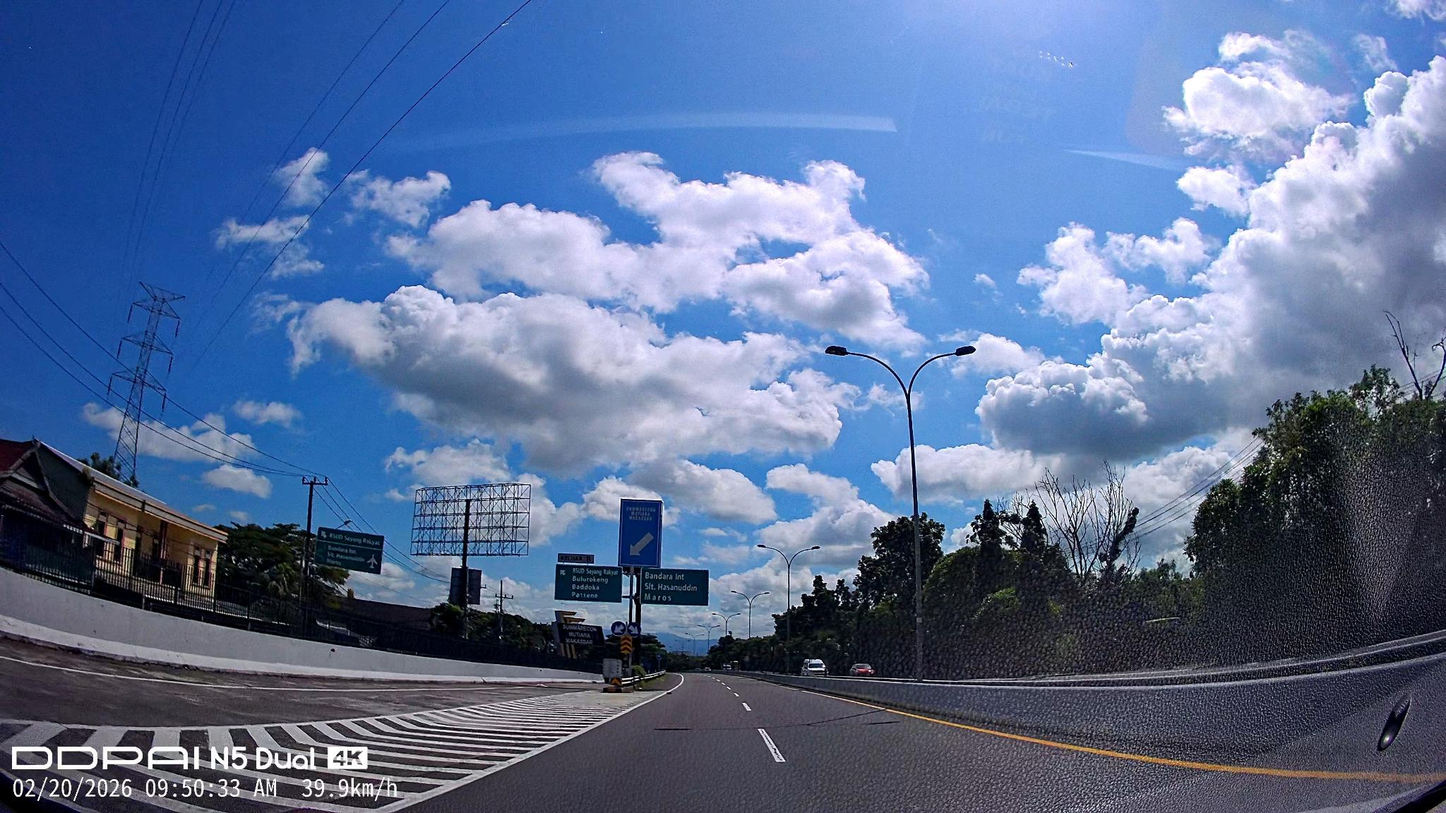rambu_teks: (554, 562, 623, 604), (639, 566, 709, 607)
